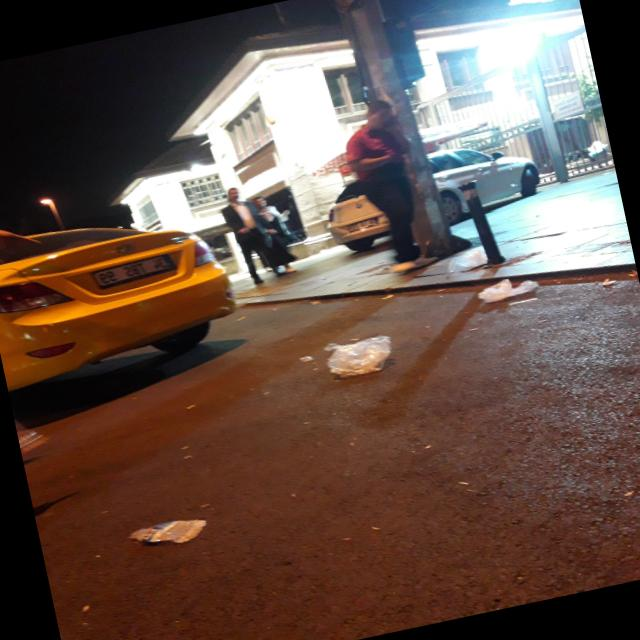less trash: (324, 335, 391, 377), (129, 519, 207, 543), (478, 279, 538, 302)
